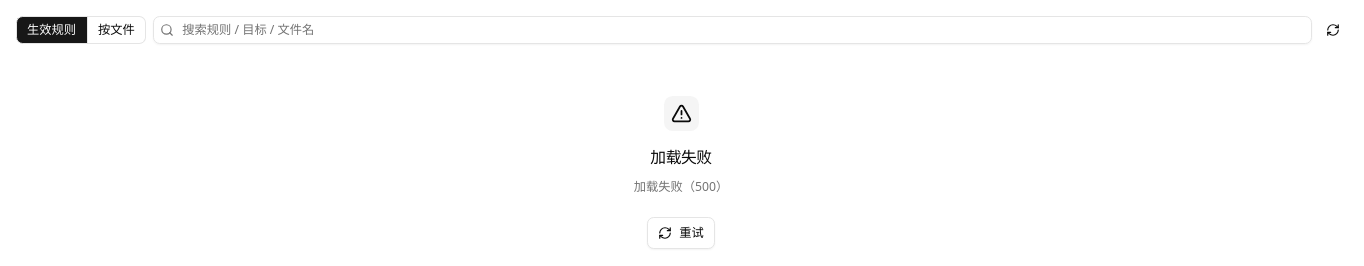
Test: RuleOverviewPanel › shows an API error state with retry
Check: the text "加载失败" is shown, box 650,145 -> 712,170
What coordinates should you click on to do the following:
click the button "重试"
I would click on:
 (681, 233)
Its box is 647,217 -> 715,249.
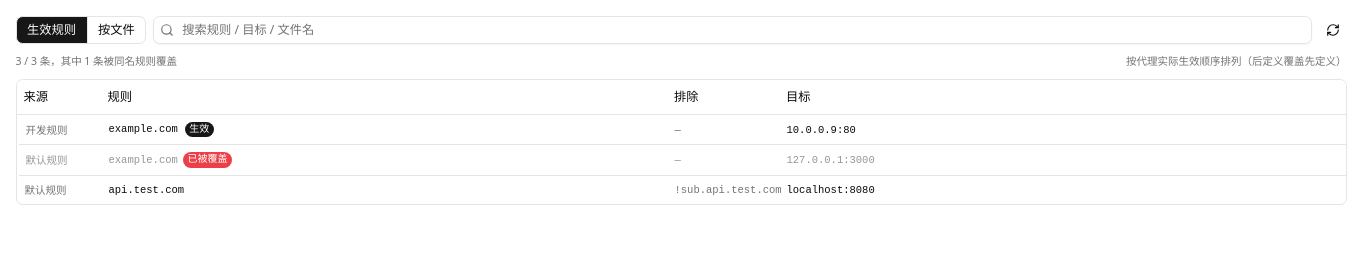
Check: the text "example.com" is shown, box 108,123 -> 178,135
